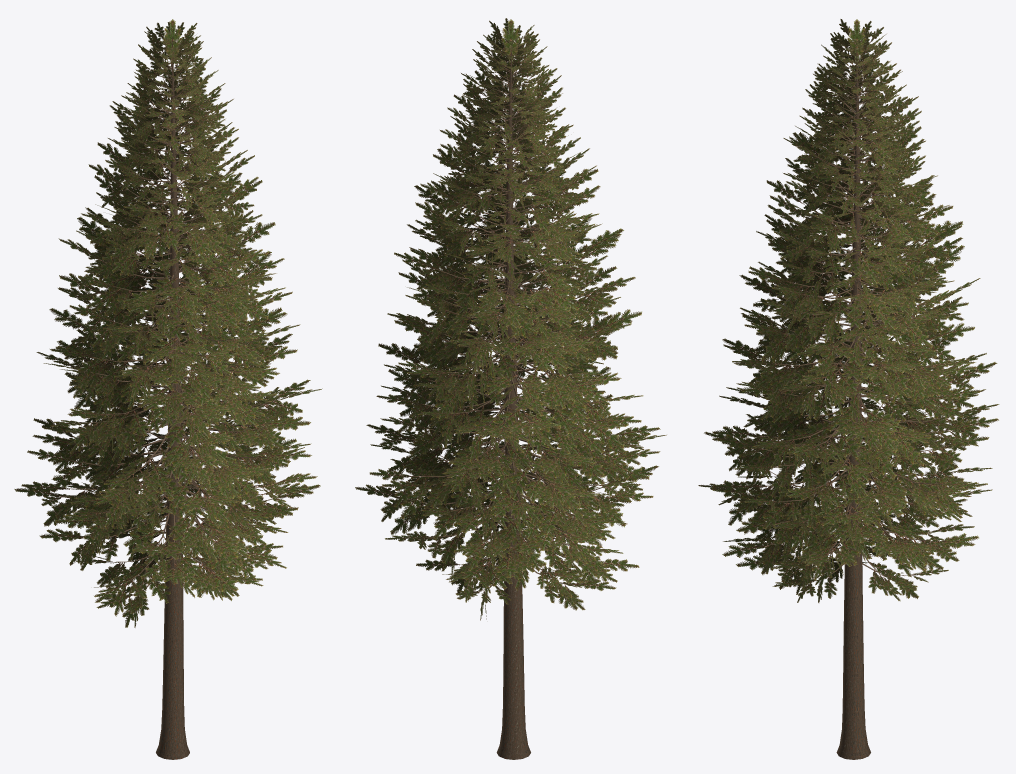
File: fir_tall_a_lod0.gltf
3 views of the same model, side by side, from view 1: azimuth 30°, elevation 25°; view 2: azimuth 150°, elevation 25°; view 3: azimuth 270°, elevation 25° (orthographic).
Parts seen in each view (by area): view 1: fir_tall_a_LOD0; view 2: fir_tall_a_LOD0; view 3: fir_tall_a_LOD0.
Part boxes in pixels (bbox=[...]): fir_tall_a_LOD0: bbox=[14, 19, 322, 759]; fir_tall_a_LOD0: bbox=[355, 18, 666, 759]; fir_tall_a_LOD0: bbox=[698, 19, 999, 759].
Size of the model in its own units: 11.42 by 30.59 by 11.52.
2 materials, 2 textured.
